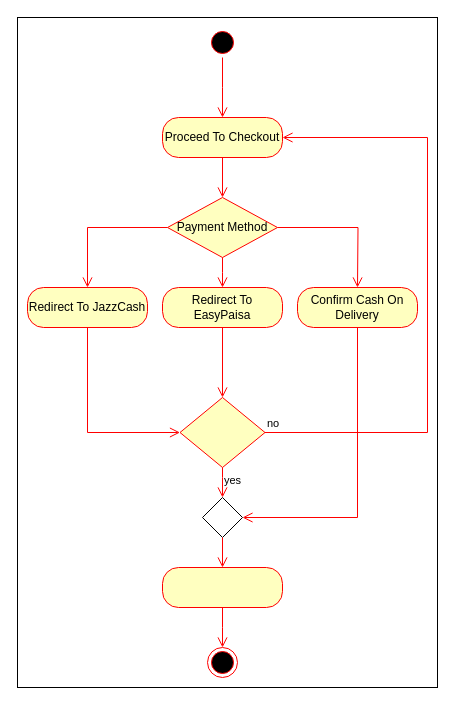
The diagram is 455 pixels wide and 705 high, and some of its shapes have lost their labels. The centre of each missing label's shape, as x and y in pixels:
"Generate Receipt" goes at point 222,587.
"Payment Done?" goes at point 222,432.
